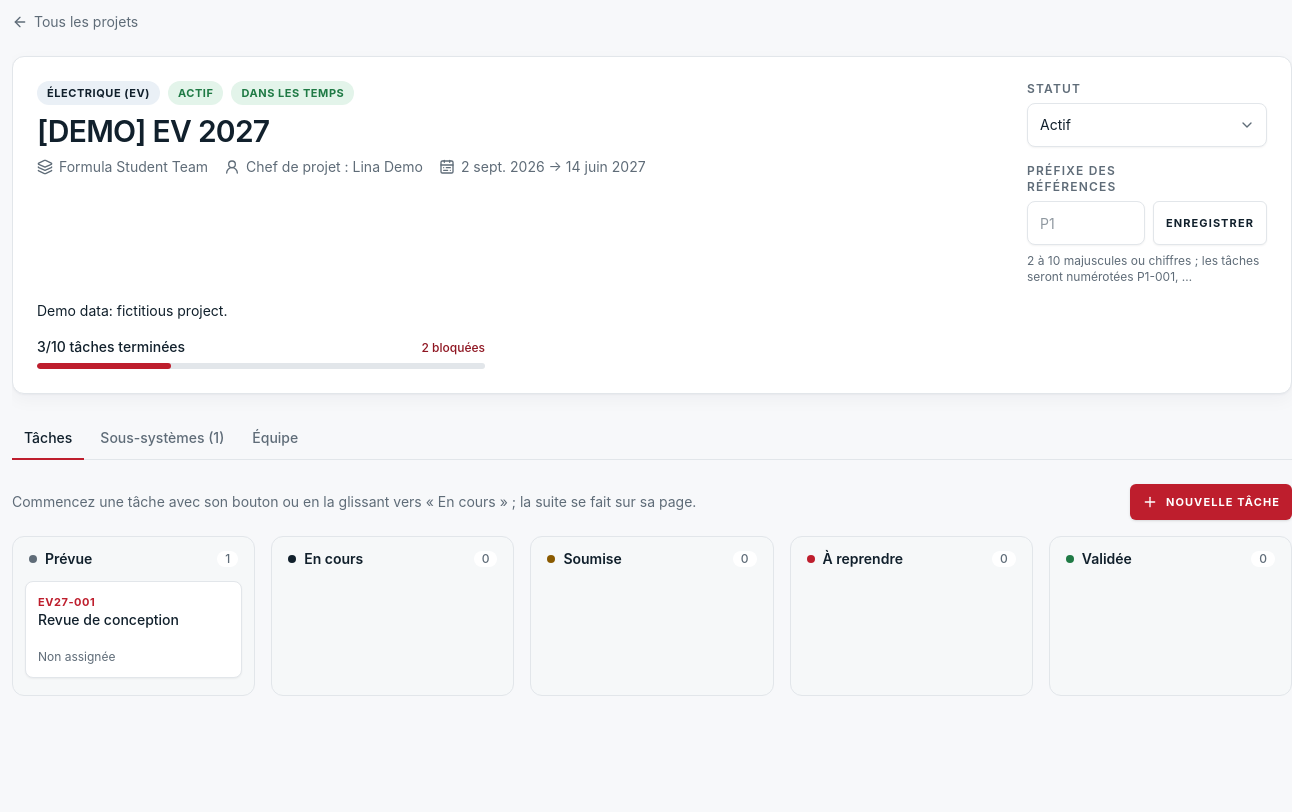
ProjectView › lets its manager set the prefix of its task references
Expected: the text "2 à 10 majuscules ou chiffres ; les tâches seront numérotées P1-001, …" is shown, [1027, 253, 1267, 285]
Type "ev27" into the field labelled "Préfixe des références" at (1086,223), box [1027, 201, 1145, 245]
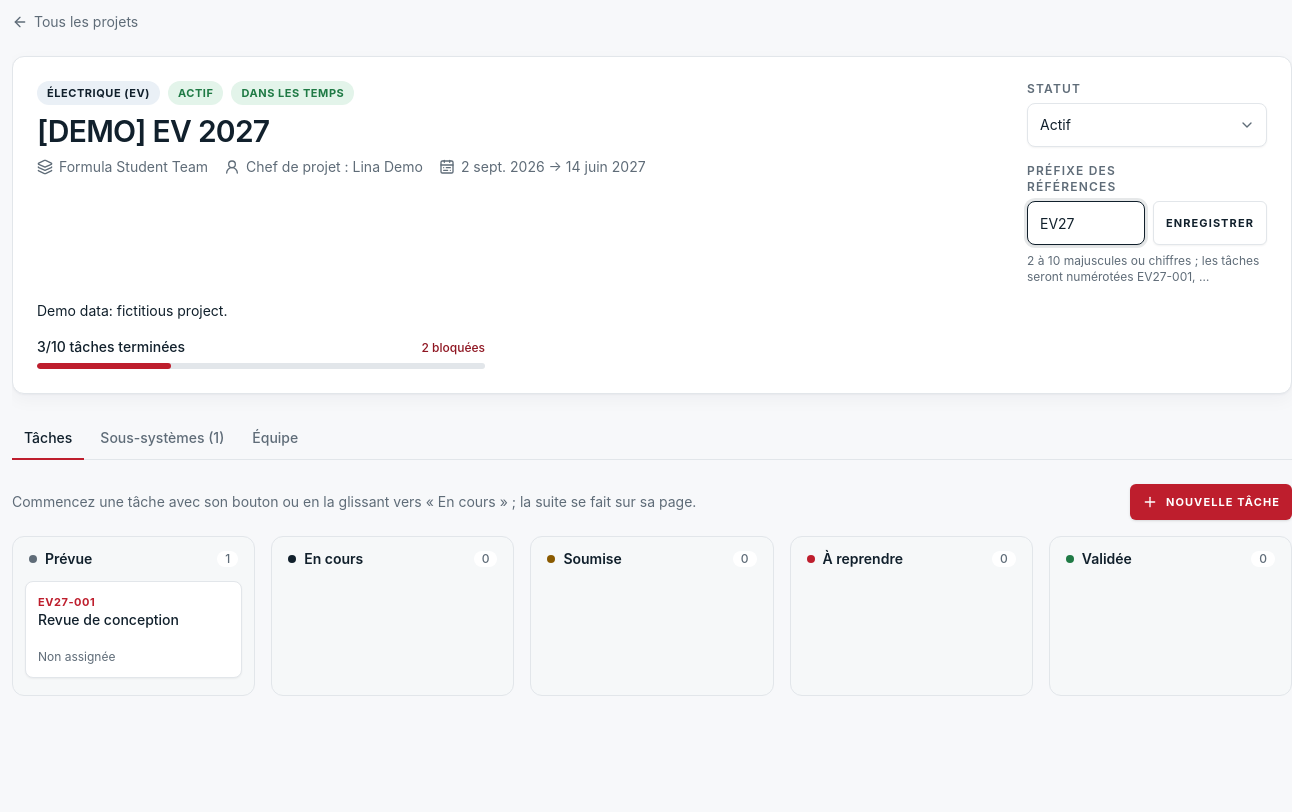
Result: the text "2 à 10 majuscules ou chiffres ; les tâches seront numérotées EV27-001, …" is shown at [1027, 253, 1267, 285]
Click the button "Enregistrer" at (1210,223), box [1153, 201, 1267, 245]
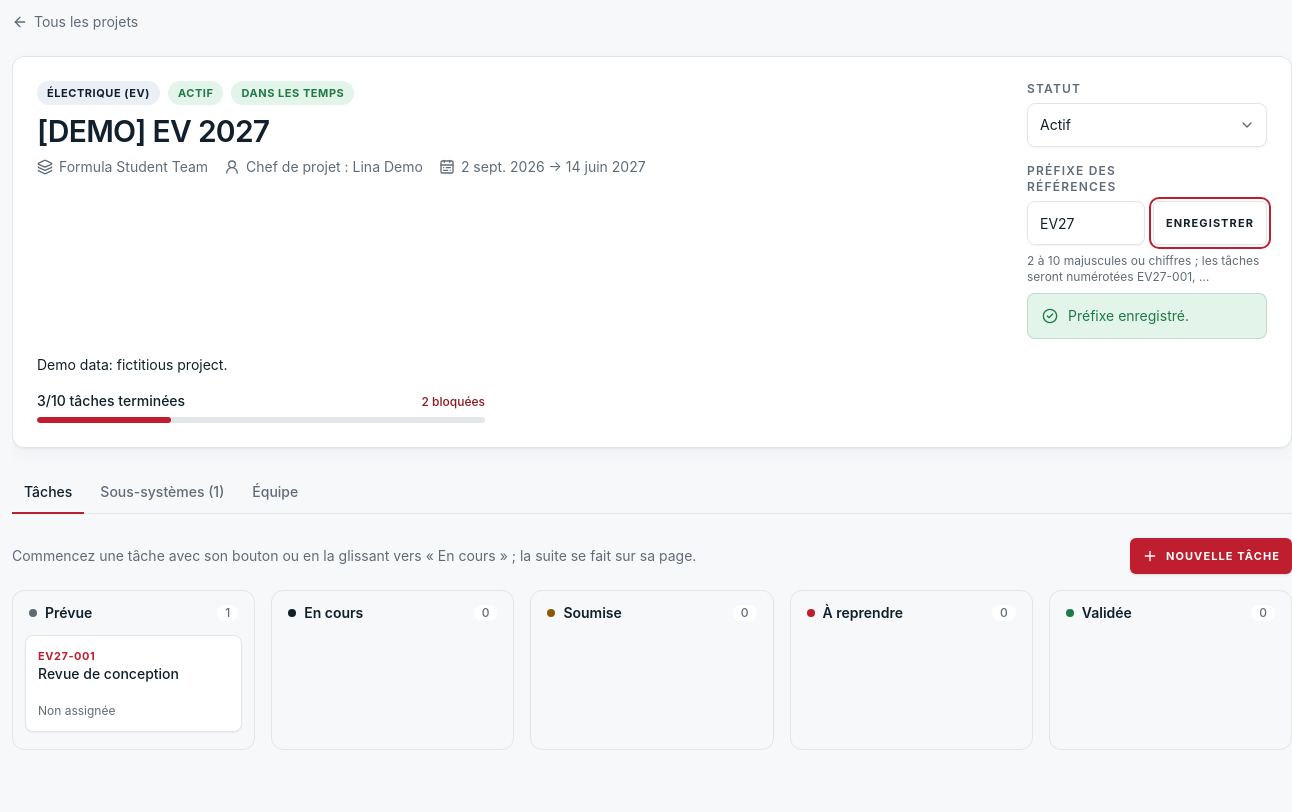
Result: the text "Préfixe enregistré." is shown at [1068, 306, 1189, 326]
